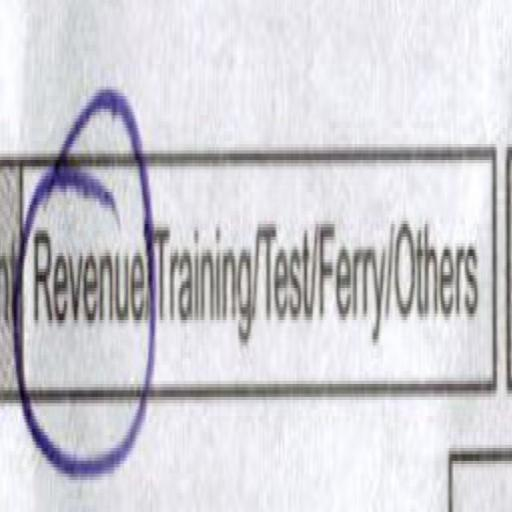check: (28, 118, 154, 510)
